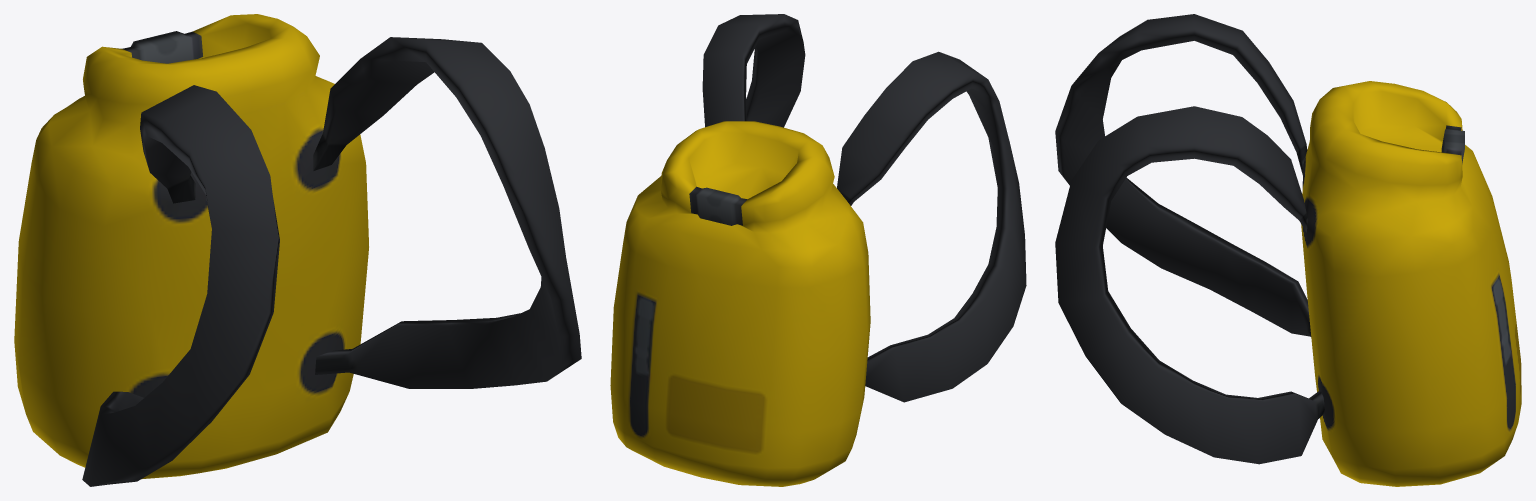
File: BagBackpackDry0.glb
3 views of the same model, side by side, from view 1: azimuth 30°, elevation 25°; view 2: azimuth 150°, elevation 25°; view 3: azimuth 270°, elevation 25° (orthographic). The views are drawn at different scales.
Visible parts, largest first — view 1: Body__mBag; view 2: Body__mBag; view 3: Body__mBag.
Boxes of the visible parts, box(x1,y1,x2,y2) form: Body__mBag: box(14, 14, 581, 486); Body__mBag: box(610, 14, 1026, 486); Body__mBag: box(1055, 14, 1521, 486).
Bounding box in the file's own units: 3.76 × 3.84 × 4.17.
Materials: 1 (1 with a texture image).
